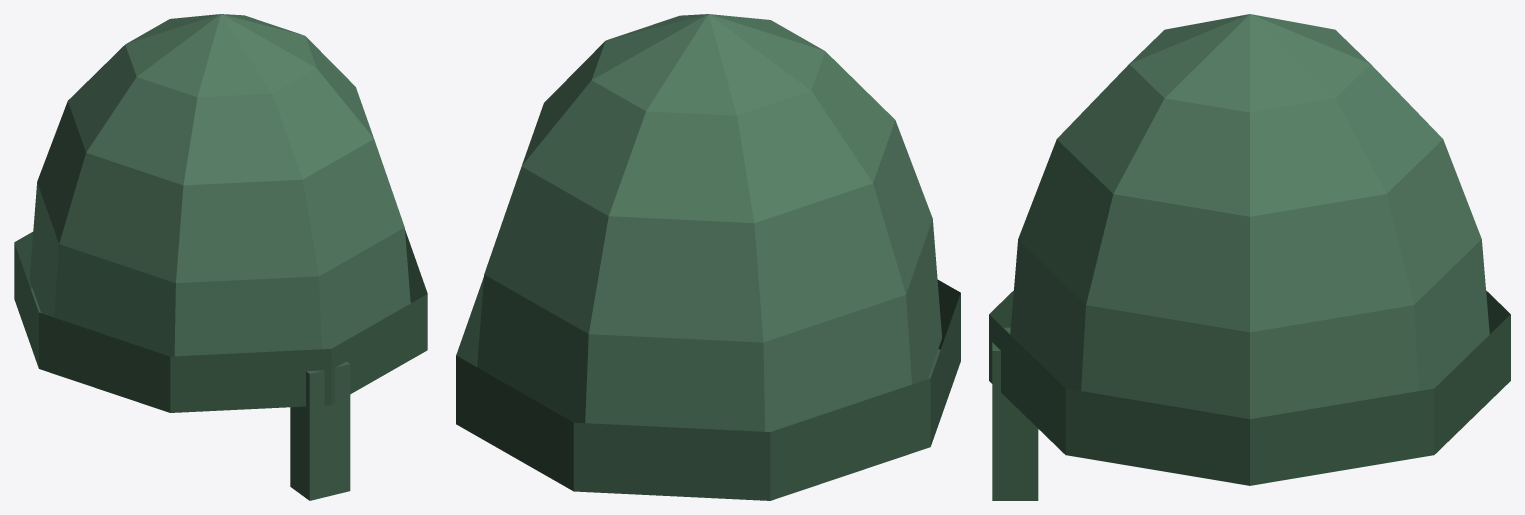
The model's file is helm_adamant.glb.
3 views of the same model, side by side, from view 1: azimuth 30°, elevation 25°; view 2: azimuth 150°, elevation 25°; view 3: azimuth 270°, elevation 25° (orthographic). The views are drawn at different scales.
Visible parts, largest first — view 1: helm_adamant; view 2: helm_adamant; view 3: helm_adamant.
Part boxes in pixels (<box>): helm_adamant: <box>14,14,427,500</box>; helm_adamant: <box>456,14,960,500</box>; helm_adamant: <box>989,14,1510,500</box>.
Bounding box in the file's own units: 0.27 × 0.285 × 0.2835.
Materials: 1 (1 with a texture image).
